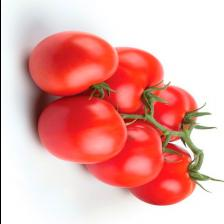tomato: (82, 118, 182, 188), (27, 30, 119, 100), (37, 95, 127, 164), (82, 46, 169, 116), (122, 143, 210, 207), (124, 85, 215, 142)
